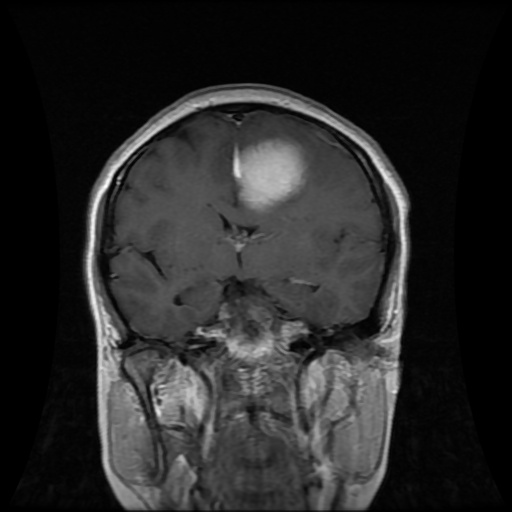meningioma: (236, 139, 308, 212)
